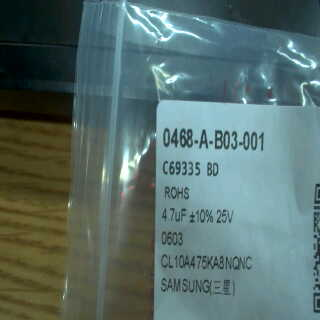4.7uF: (158, 204, 188, 230)
